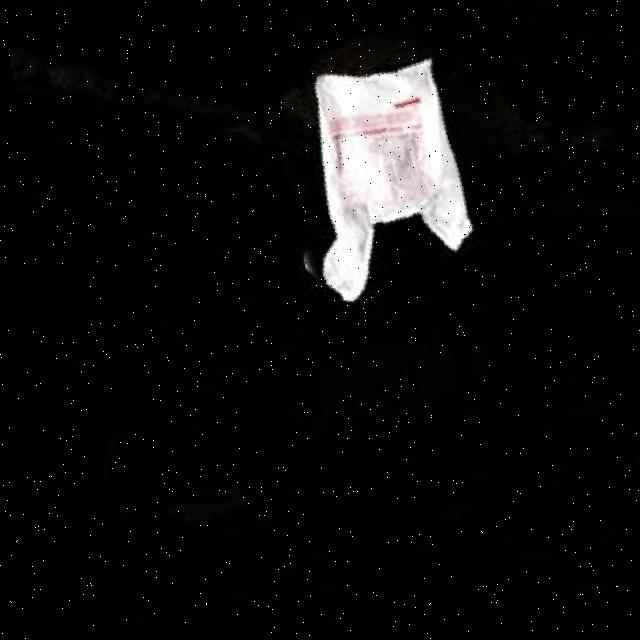litter: (245, 34, 525, 343)
